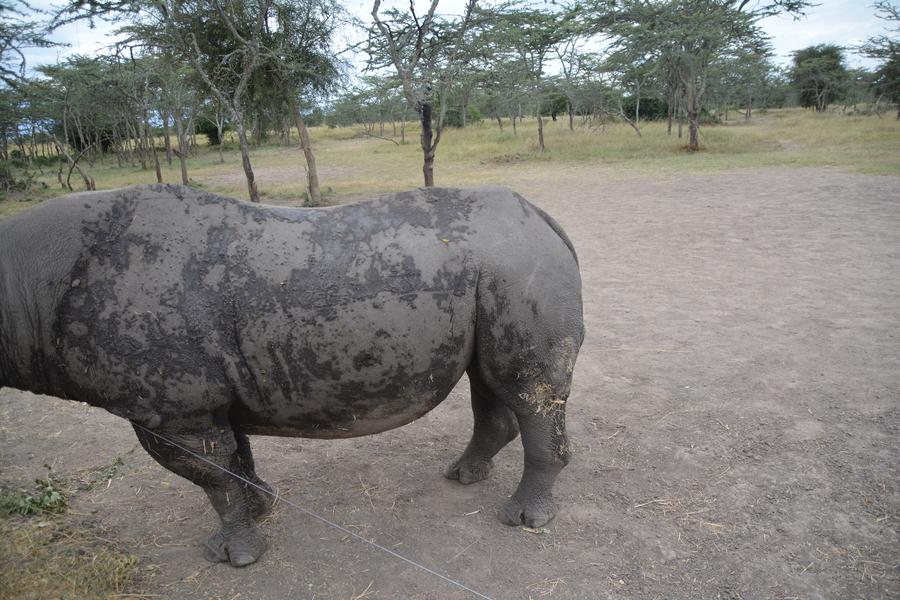rhino: (40, 160, 562, 520)
